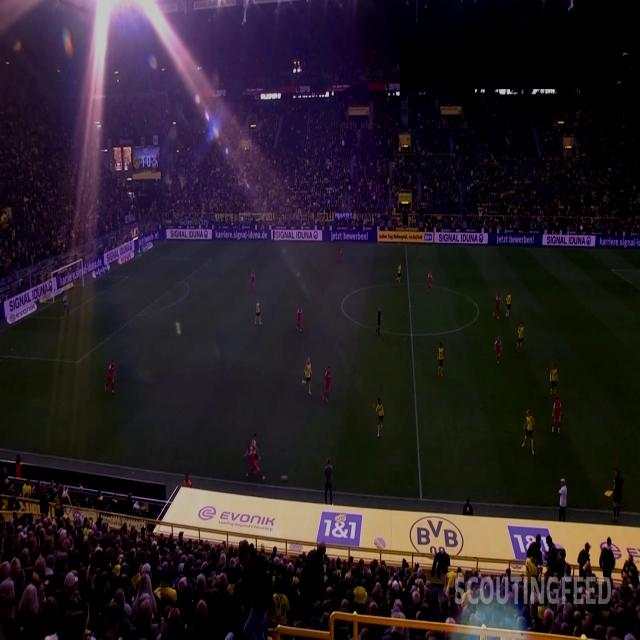f_player: (246, 434, 264, 485), (550, 392, 566, 442), (372, 390, 388, 440), (523, 408, 537, 456), (302, 352, 314, 397), (105, 356, 117, 400), (324, 360, 334, 408), (253, 294, 264, 330), (436, 342, 446, 380), (550, 364, 560, 402), (293, 305, 305, 335), (424, 269, 436, 295), (516, 324, 526, 354), (506, 292, 514, 324), (396, 258, 404, 289), (494, 292, 502, 322), (338, 240, 346, 270), (248, 269, 256, 297), (496, 337, 504, 363)
umpire: (606, 464, 624, 520), (374, 300, 386, 342), (270, 228, 277, 249)
